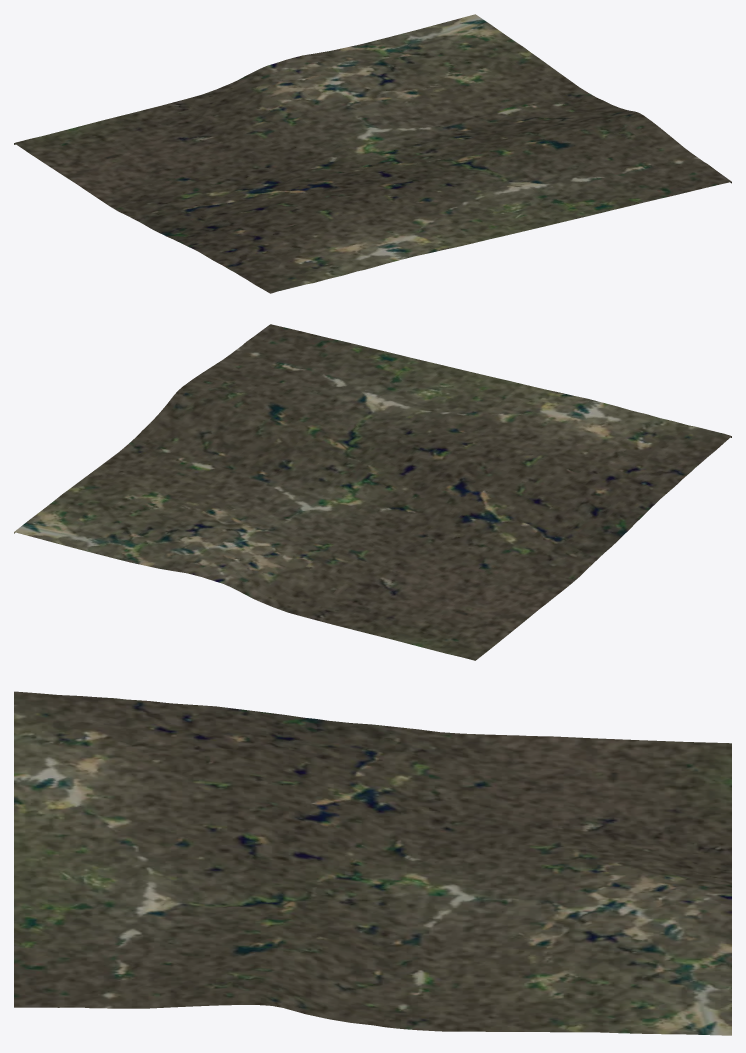
3 views of the same model, one above another, from view 1: azimuth 30°, elevation 25°; view 2: azimuth 150°, elevation 25°; view 3: azimuth 270°, elevation 25° (orthographic). The views are drawn at different scales.
Bounding box in the file's own units: 250 × 21.31 × 241.
1 material, 1 textured.
